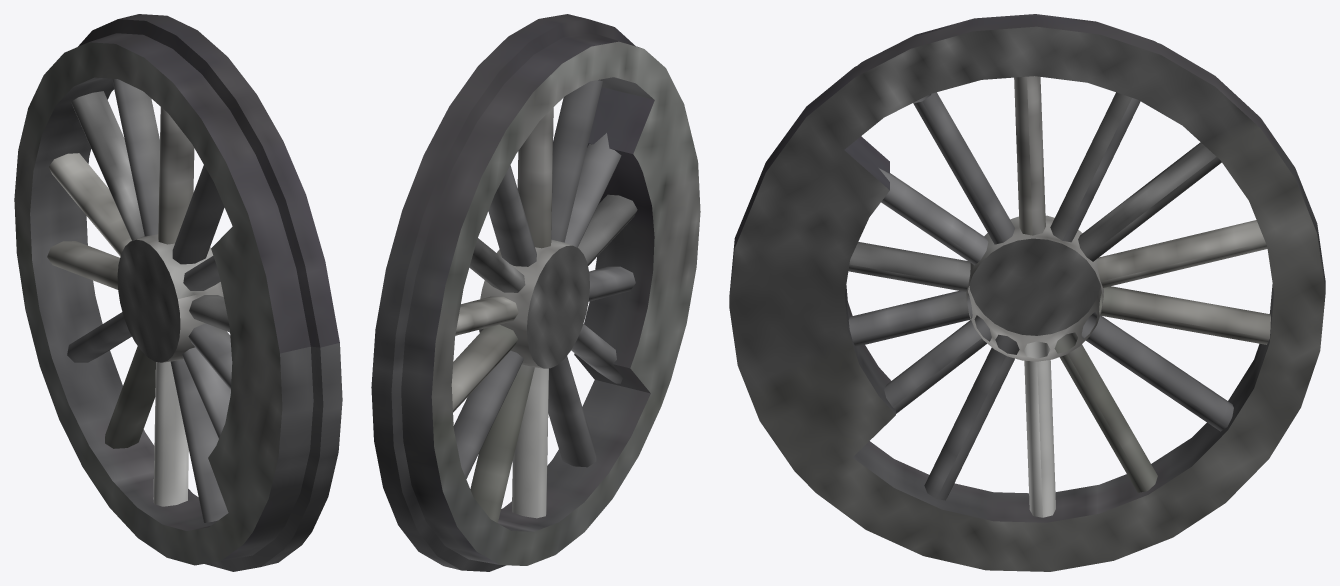
The model's file is RuedaDer4.obj.
The picture shows the model from 3 angles, left to right: view 1: azimuth 30°, elevation 25°; view 2: azimuth 150°, elevation 25°; view 3: azimuth 270°, elevation 25°; orthographic projection. The views are drawn at different scales.
Visible parts, largest first — view 1: RuedaDer4; view 2: RuedaDer4; view 3: RuedaDer4.
Boxes of the visible parts, left/top/right/bottom form: RuedaDer4: left=14, top=14, right=342, bottom=571; RuedaDer4: left=371, top=14, right=700, bottom=571; RuedaDer4: left=729, top=14, right=1325, bottom=571.
Bounding box in the file's own units: 0.0446 × 0.39 × 0.3867.
Materials: 1 (1 with a texture image).
